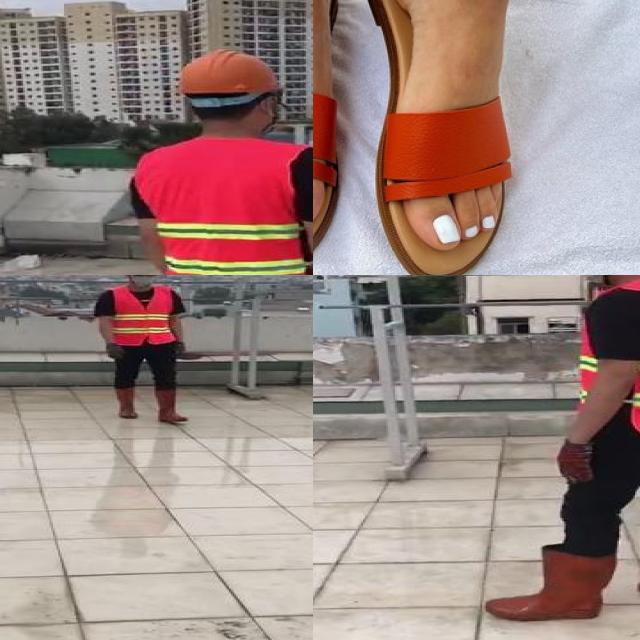Sandals: (352, 0, 517, 275)
boots: (478, 552, 614, 623), (154, 387, 192, 422), (112, 385, 142, 419)
face_mask: (564, 275, 619, 285), (128, 275, 158, 287)
glasses: (125, 275, 160, 278)
hand_glove: (555, 441, 594, 482), (174, 342, 190, 360), (102, 350, 128, 360)
head_helmet: (167, 48, 286, 98)
person: (481, 275, 640, 629), (118, 42, 313, 275), (90, 275, 198, 426)
vest: (138, 136, 313, 275), (574, 281, 640, 438), (108, 285, 174, 346)
